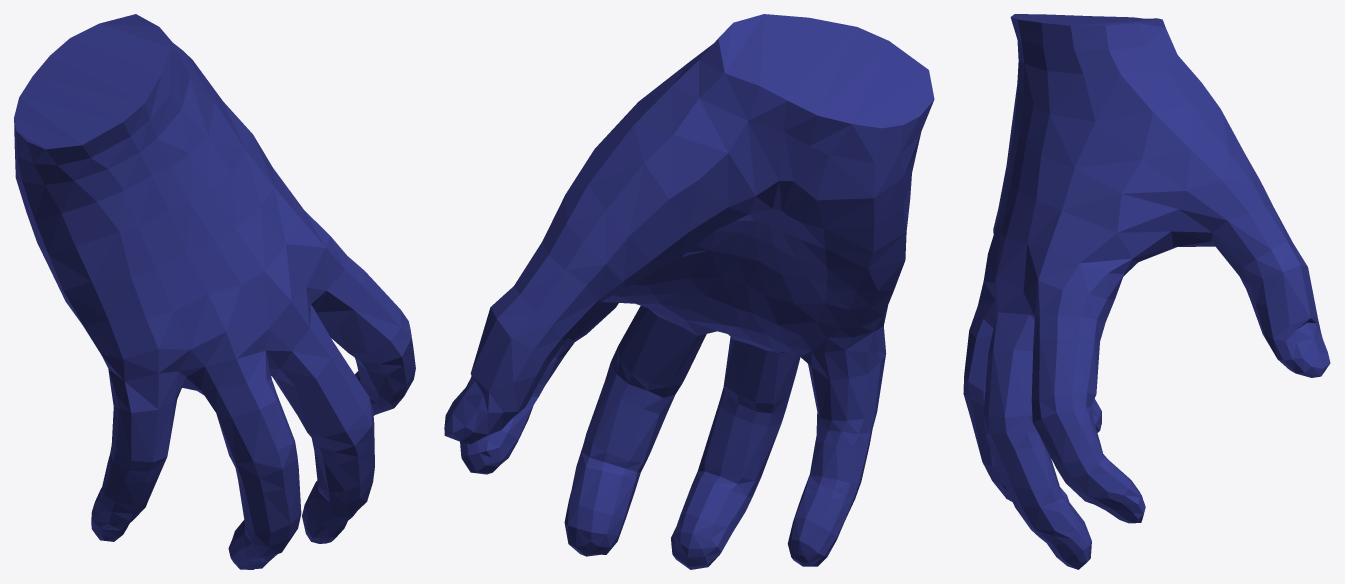
The picture shows the model from 3 angles, left to right: view 1: azimuth 30°, elevation 25°; view 2: azimuth 150°, elevation 25°; view 3: azimuth 270°, elevation 25°; orthographic projection. The views are drawn at different scales.
Bounding box in the file's own units: 0.1297 × 0.1703 × 0.1183.
